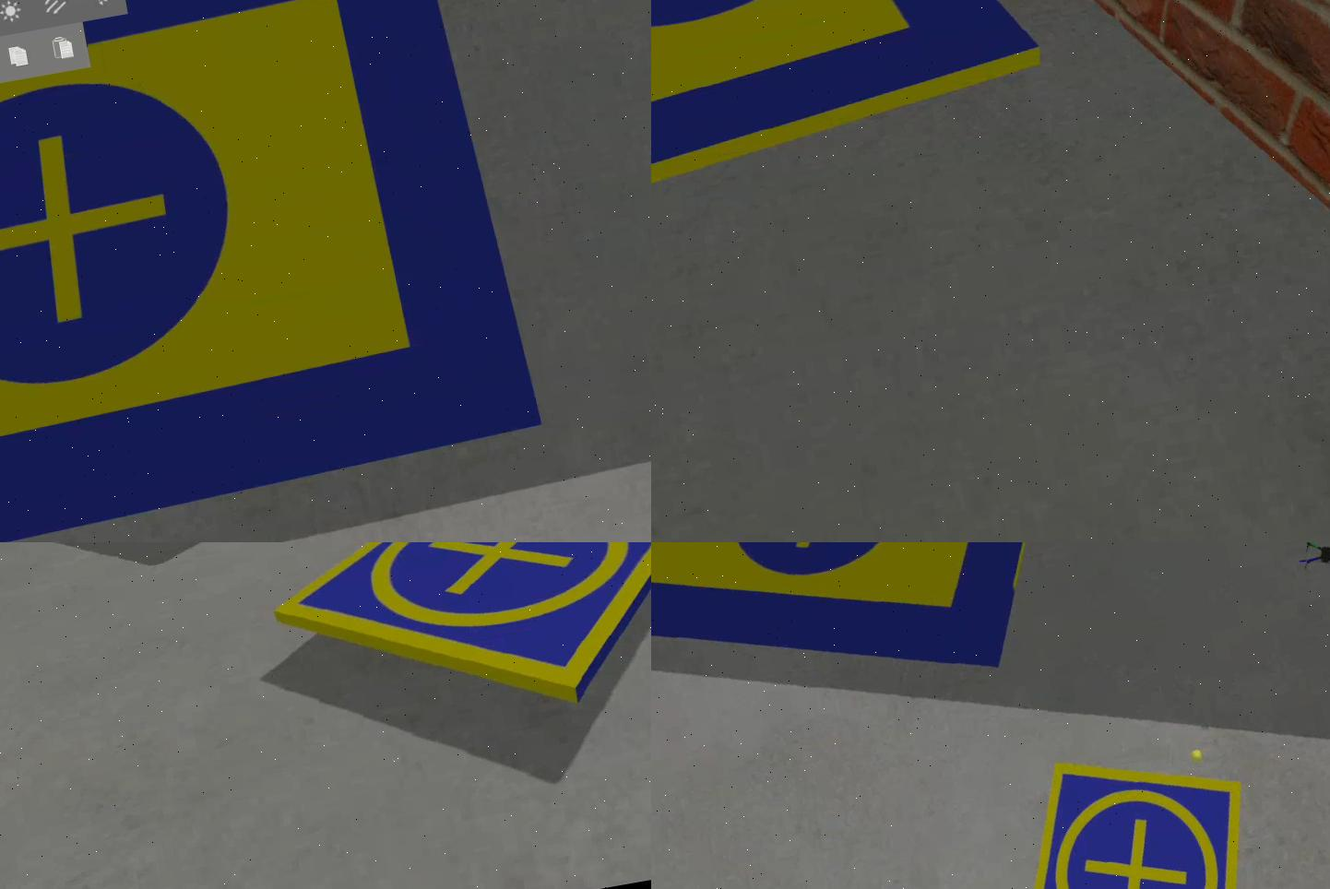large_base: (1, 1, 550, 543), (652, 1, 1063, 254), (652, 543, 1105, 748)
small_base: (261, 543, 652, 751), (983, 726, 1283, 889)
